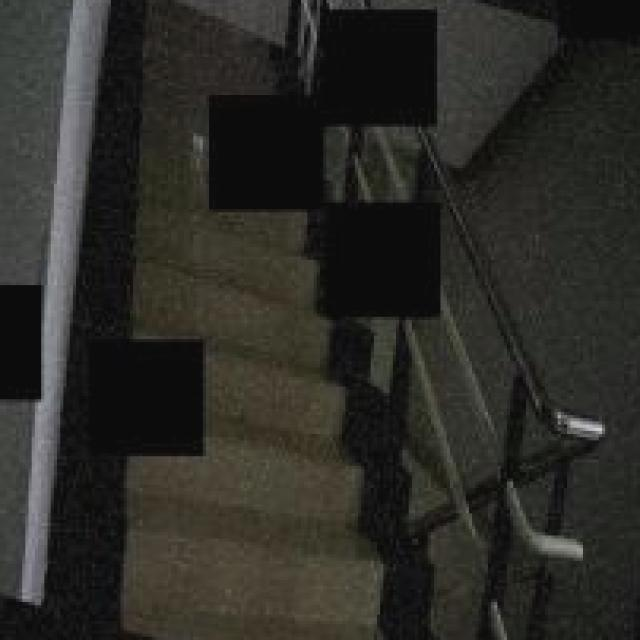upstair: (220, 318, 385, 640)
